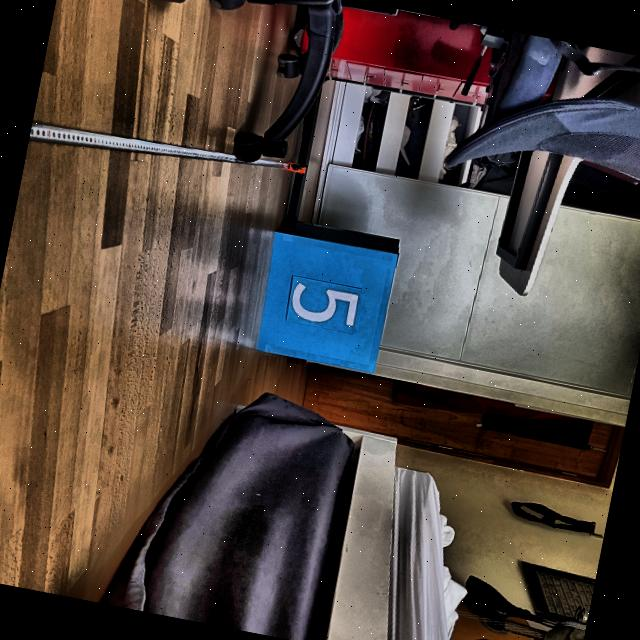blue box: (253, 214, 404, 378)
five: (287, 278, 362, 332)
